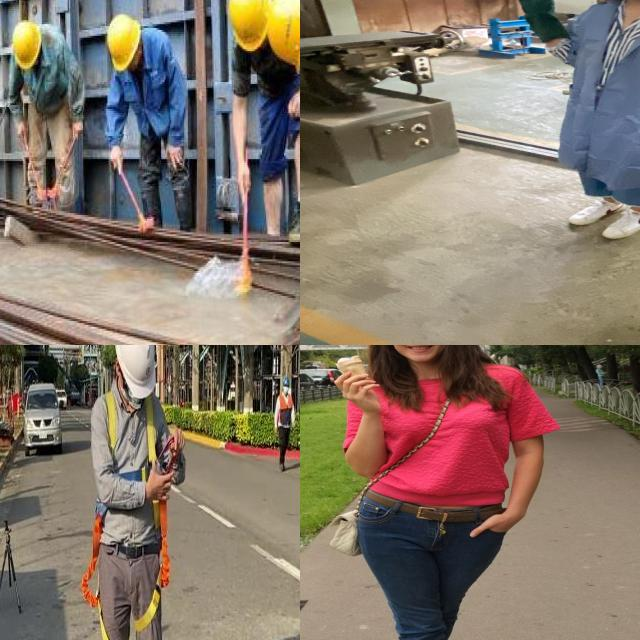Harness: (106, 389, 158, 481), (135, 501, 171, 632), (81, 513, 110, 640)
hand_glove: (507, 0, 568, 13)
hand_noglove: (277, 88, 300, 122), (232, 166, 254, 196), (65, 114, 88, 140), (106, 142, 126, 170), (163, 140, 184, 166), (10, 119, 31, 142)
head_helmet: (259, 0, 300, 70), (225, 0, 276, 55), (102, 10, 140, 72), (9, 18, 44, 68)
person: (497, 0, 640, 243), (90, 0, 202, 242), (218, 0, 300, 254), (0, 12, 96, 227)
shoes: (555, 191, 630, 226), (594, 199, 640, 240), (282, 196, 300, 246)
